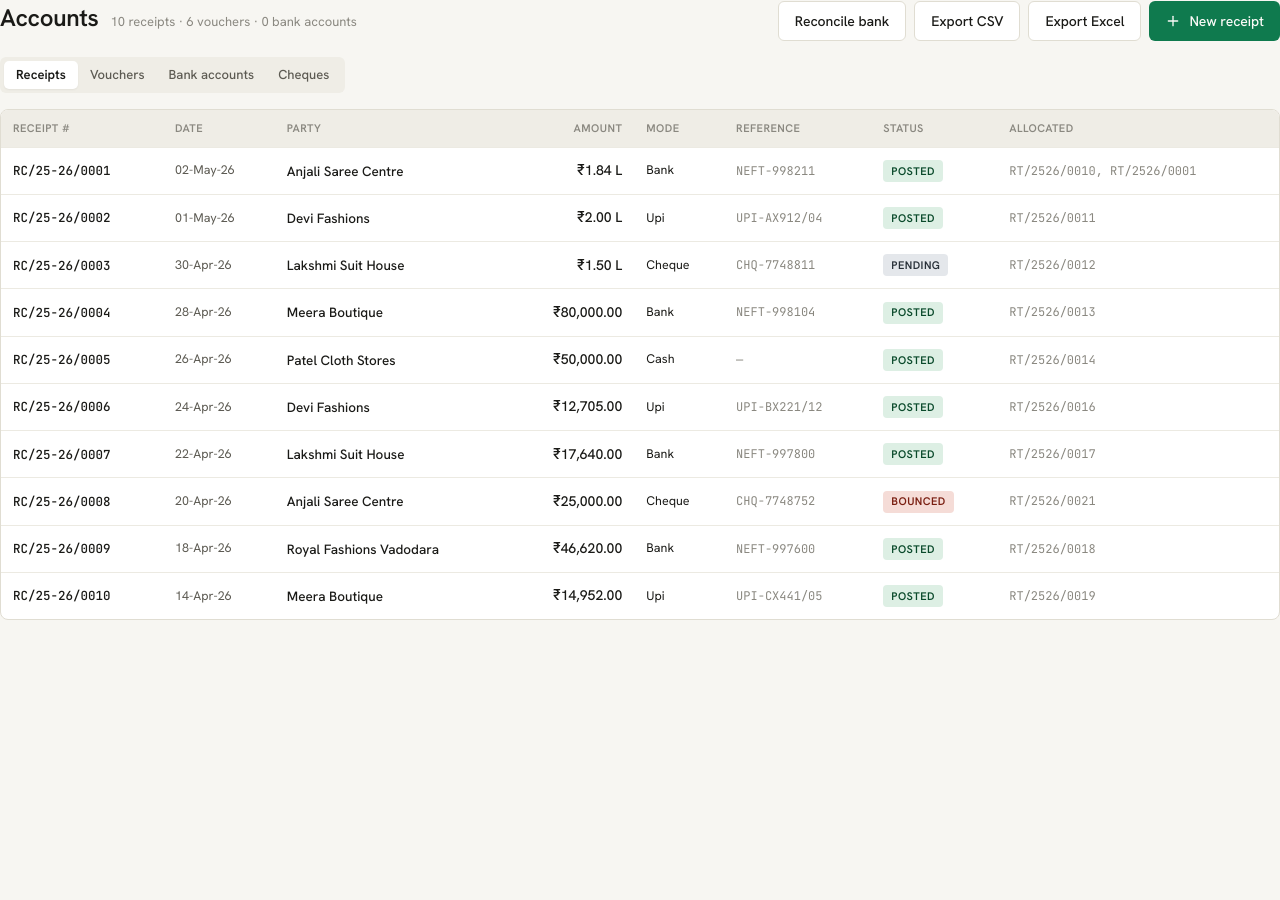
it: AccountingHub › "+ New receipt" opens a dialog (replaces TASK-042 coming-soon)
Expected: the text "RC/25-26/0001" is shown, [13, 162, 110, 179]
What coordinates should you click on to do the following:
click the button "New receipt"
I would click on:
 (1215, 21)
Its box is [1149, 1, 1279, 41].
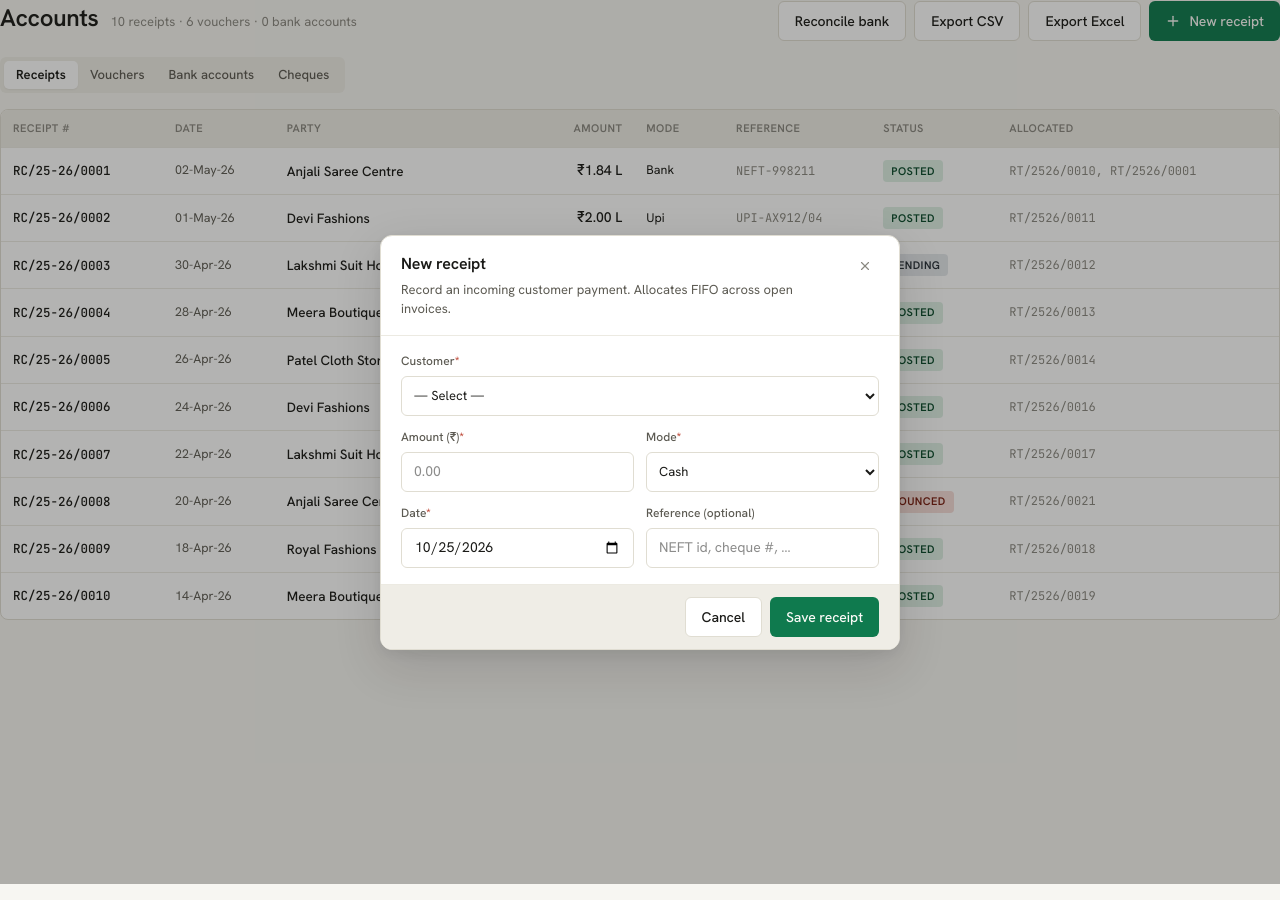
Now the dialog "New receipt" is shown
Now the dropdown labelled "Customer*" is shown, box [401, 376, 879, 416]
Now the number field labelled "Amount (₹)*" is shown, box [402, 461, 633, 482]
